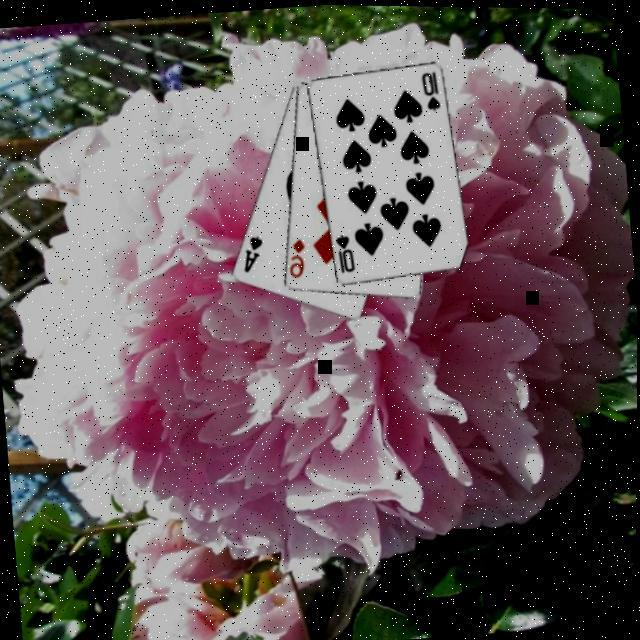10S: (416, 64, 442, 111), (330, 227, 356, 273)
9D: (283, 231, 309, 278)
AS: (237, 229, 266, 272)
